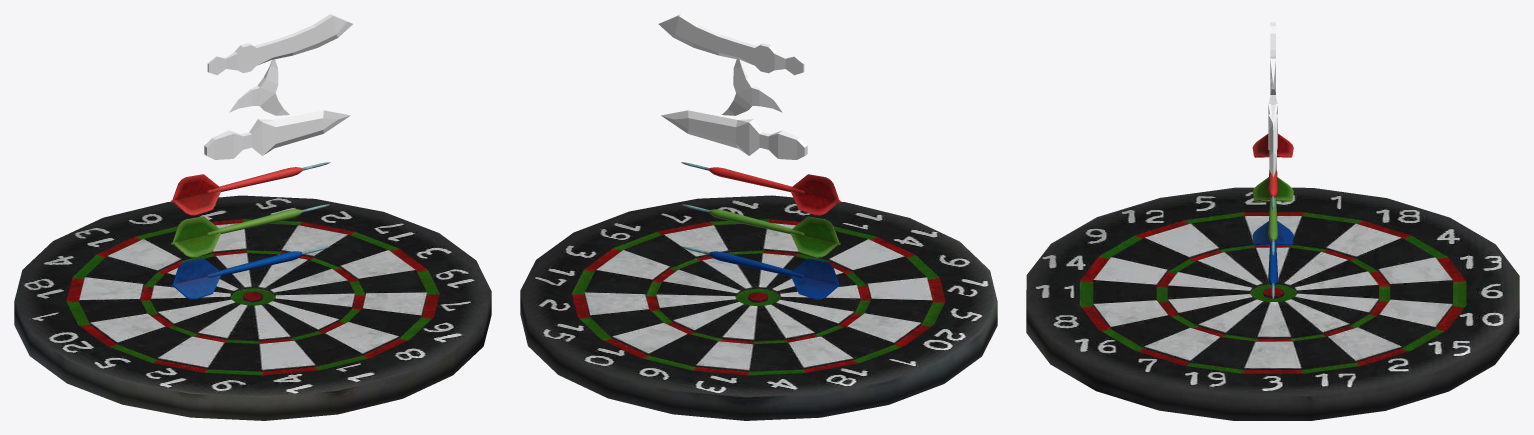
Rendered from darts.glb.
The picture shows the model from 3 angles, left to right: view 1: azimuth 30°, elevation 25°; view 2: azimuth 150°, elevation 25°; view 3: azimuth 270°, elevation 25°; orthographic projection. The views are drawn at different scales.
Parts seen in each view (by area): view 1: darts, dart3, dart5, dart0, dart1, dart2, dart4; view 2: darts, dart3, dart5, dart2, dart1, dart0, dart4; view 3: darts, dart1, dart0, dart2, dart3.
Boxes of the visible parts, <box> form: darts: <box>14,195,491,420</box>; dart3: <box>204,110,350,159</box>; dart5: <box>207,14,352,75</box>; dart0: <box>171,246,330,299</box>; dart1: <box>171,204,330,257</box>; dart2: <box>171,162,330,215</box>; dart4: <box>229,59,289,115</box>; darts: <box>520,195,997,420</box>; dart3: <box>661,110,807,159</box>; dart5: <box>658,14,804,75</box>; dart2: <box>681,162,840,215</box>; dart1: <box>681,204,840,257</box>; dart0: <box>681,246,840,299</box>; dart4: <box>722,59,782,115</box>; darts: <box>1026,187,1519,420</box>; dart1: <box>1252,177,1293,255</box>; dart0: <box>1252,221,1293,299</box>; dart2: <box>1252,133,1293,211</box>; dart3: <box>1268,98,1277,177</box>.
Bounding box in the file's own units: 5.09 × 3.4 × 5.09.
4 materials, 1 textured.
